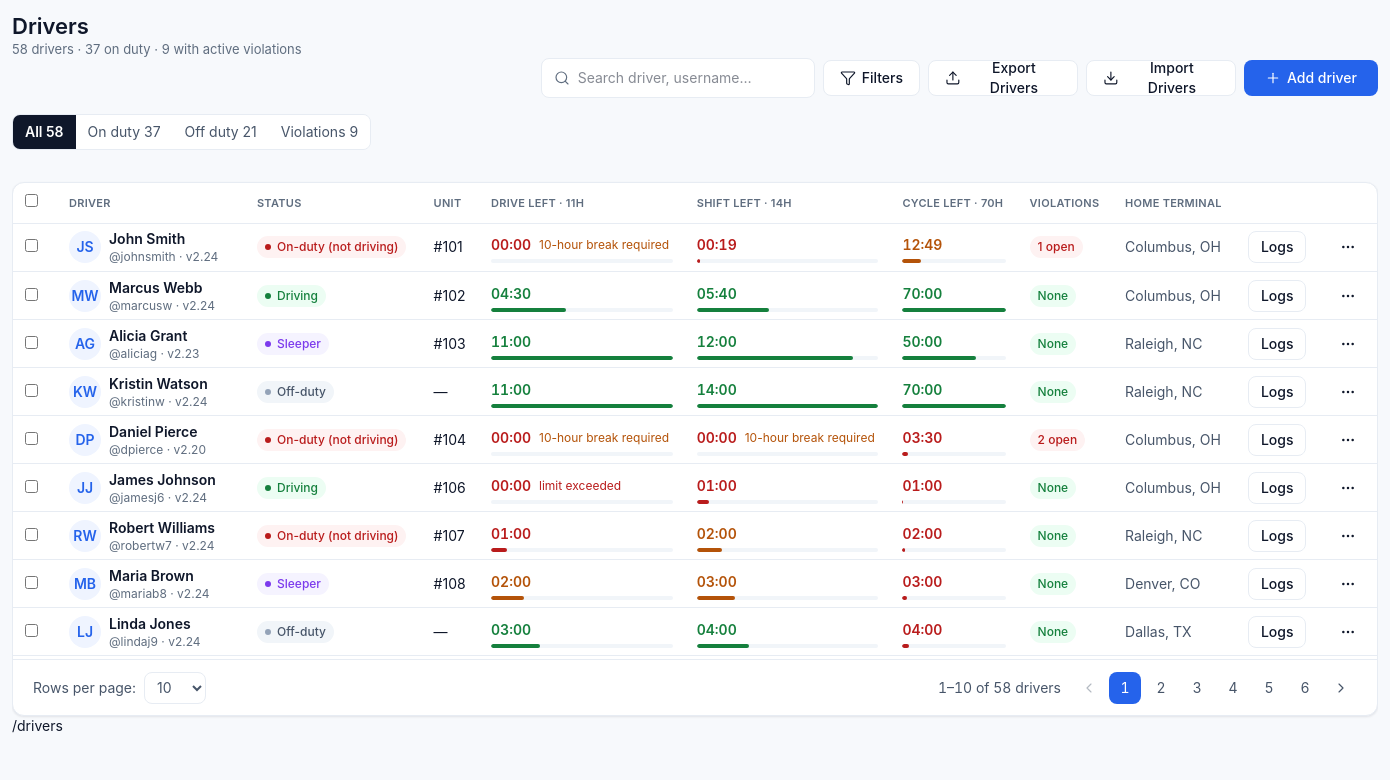
Test: W-06 Drivers › UI-006: the header and the tab counts do not follow the selected tab or the search
Click the button "Violations 9".
click(320, 132)  # box [269, 115, 370, 149]
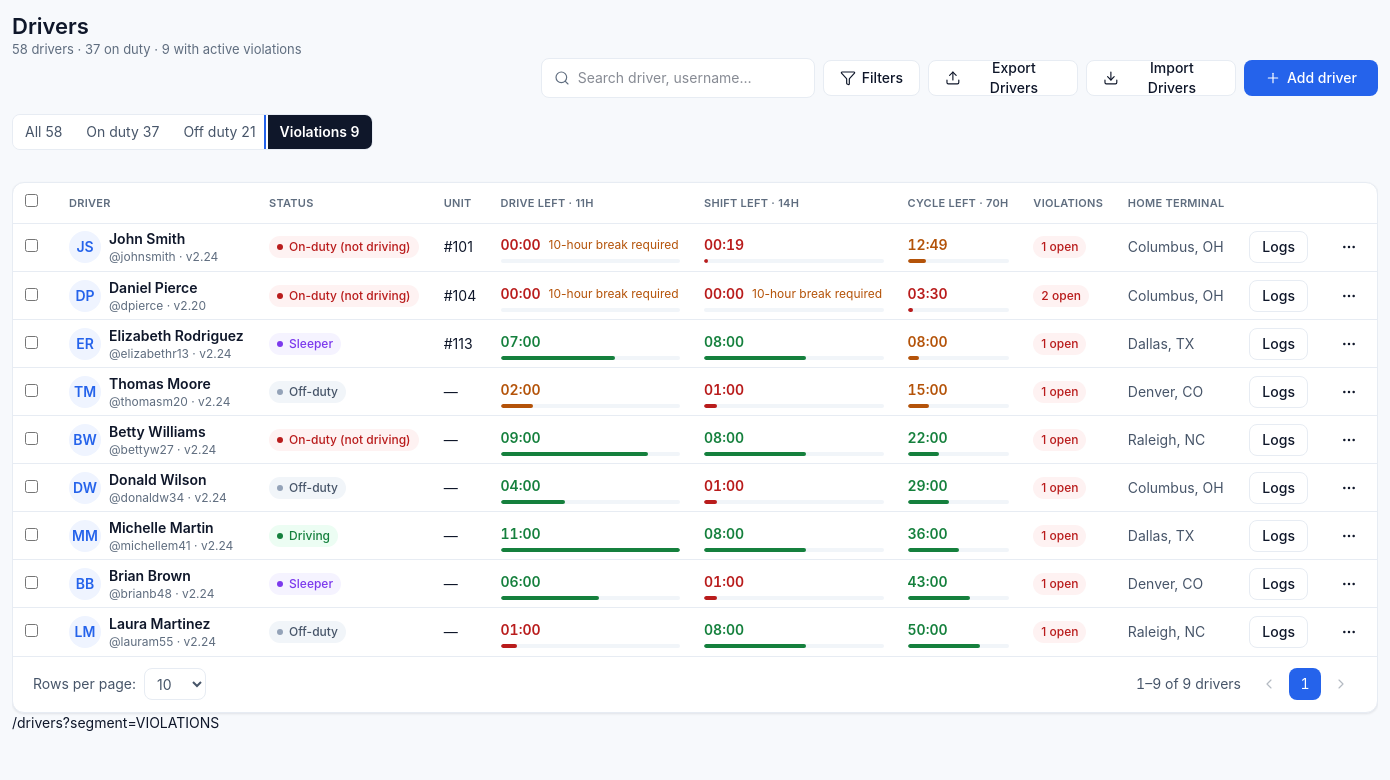
Expected: the button "All 58" is shown, [13, 115, 74, 149]
Type "webb" into the field named "Search drivers".
click(690, 78); type("webb")  # box [578, 68, 802, 88]
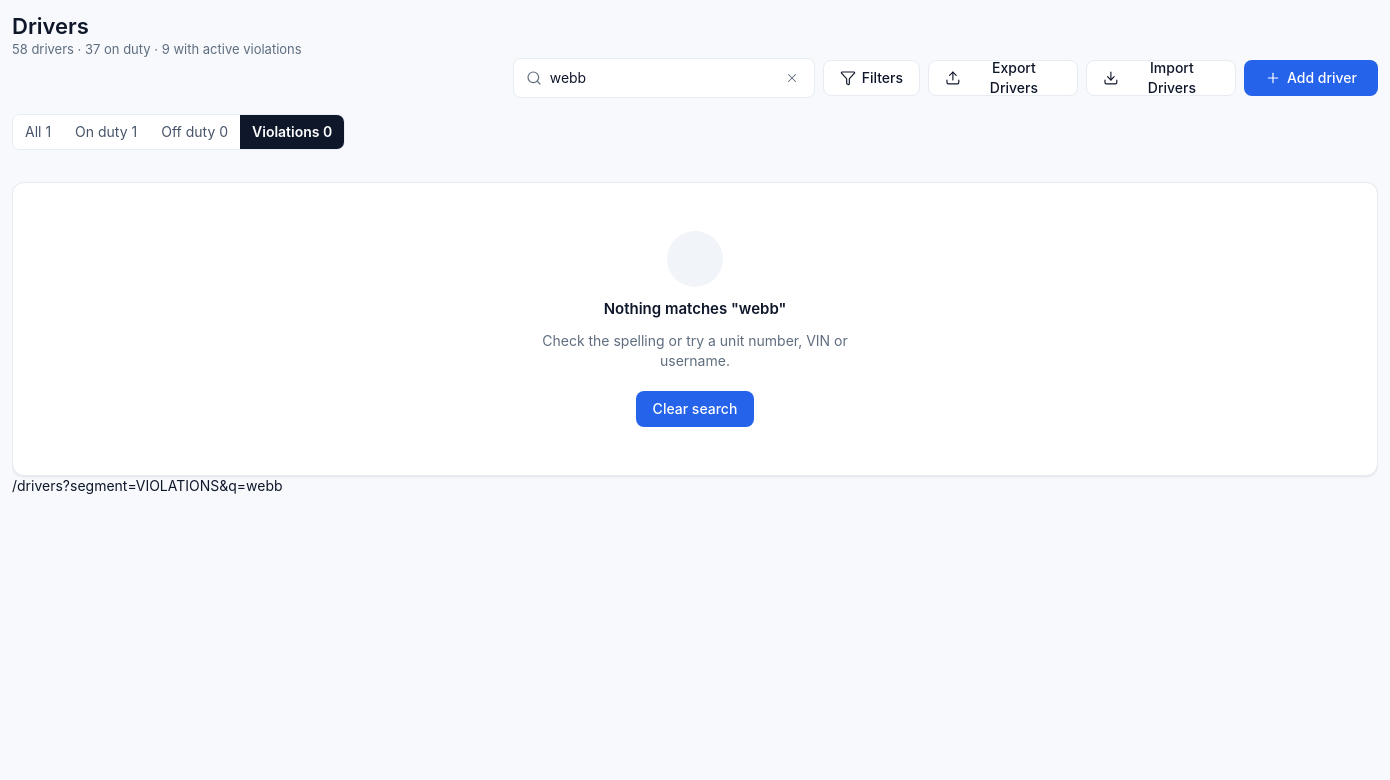
Expected: the text with test id "location" shows "q=webb", [12, 477, 283, 494]
